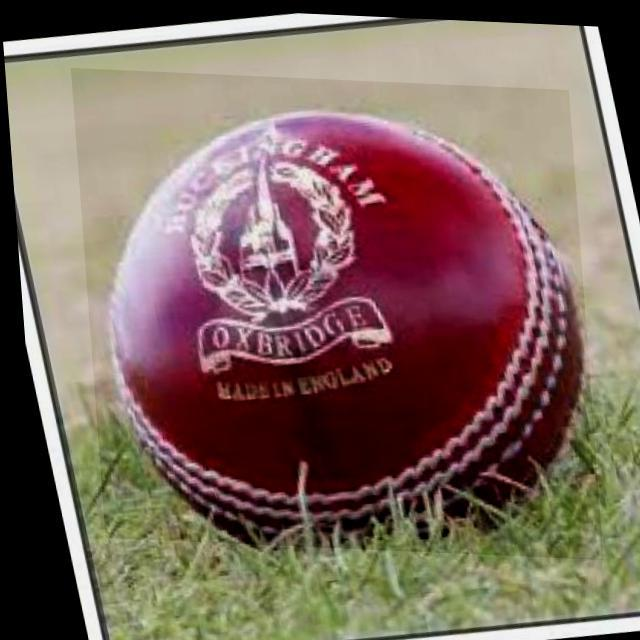-: (70, 68, 595, 554)
